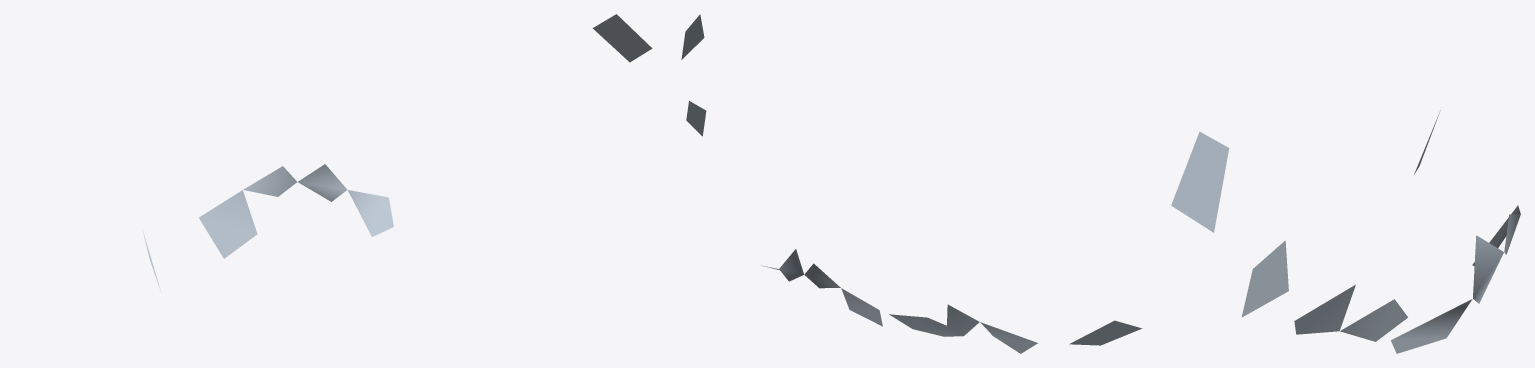
Rendered from dorsal-carpometacarpal-ligaments-l.glb.
3 views of the same model, side by side, from view 1: azimuth 30°, elevation 25°; view 2: azimuth 150°, elevation 25°; view 3: azimuth 270°, elevation 25° (orthographic). The views are drawn at different scales.
Parts seen in each view (by area): view 1: Dorsal carpometacarpal ligaments.l; view 2: Dorsal carpometacarpal ligaments.l; view 3: Dorsal carpometacarpal ligaments.l.
Part boxes in pixels (<box>): Dorsal carpometacarpal ligaments.l: <box>143,14,652,292</box>; Dorsal carpometacarpal ligaments.l: <box>681,14,1142,353</box>; Dorsal carpometacarpal ligaments.l: <box>1171,110,1520,353</box>.
Bounding box in the file's own units: 0.0468 × 0.0186 × 0.0155.
